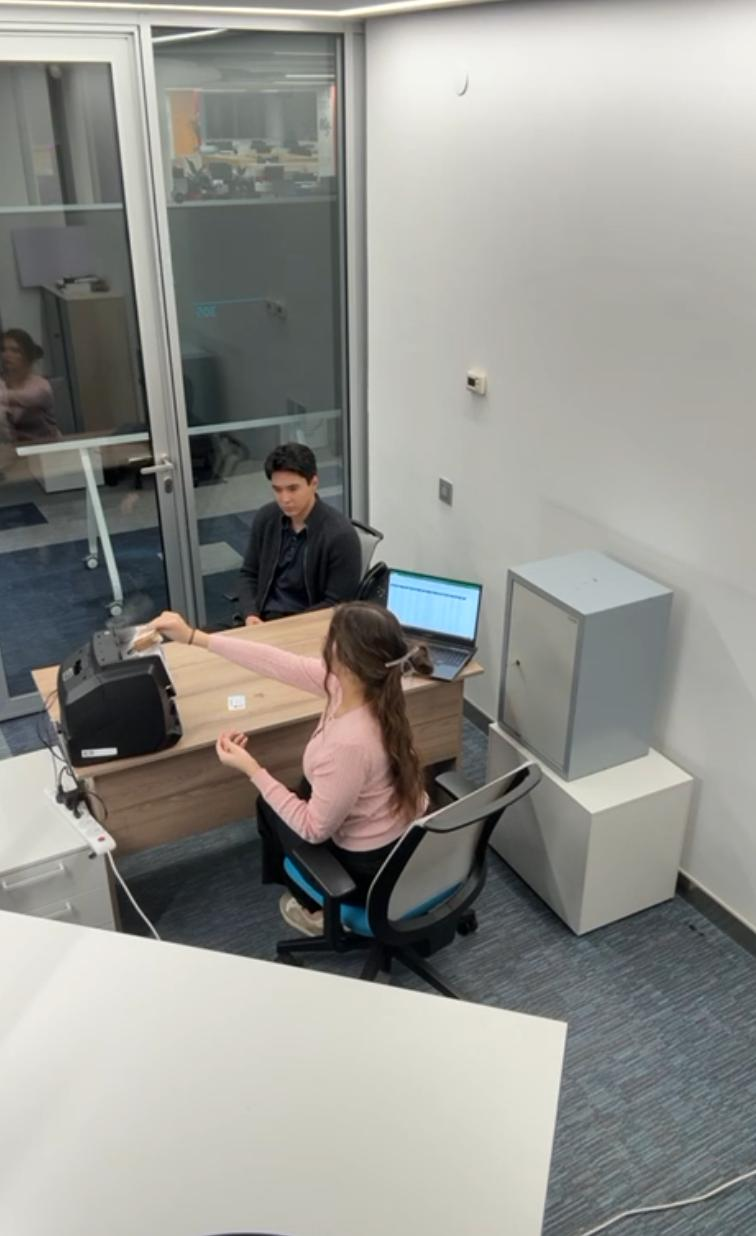cash_stack: (130, 622, 163, 654)
counter: (53, 626, 183, 767)
key_in: (506, 656, 528, 681)
screen_on: (387, 569, 482, 643)
